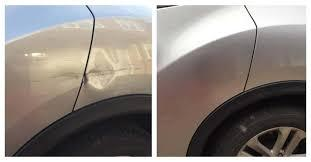dent: (80, 45, 127, 95)
